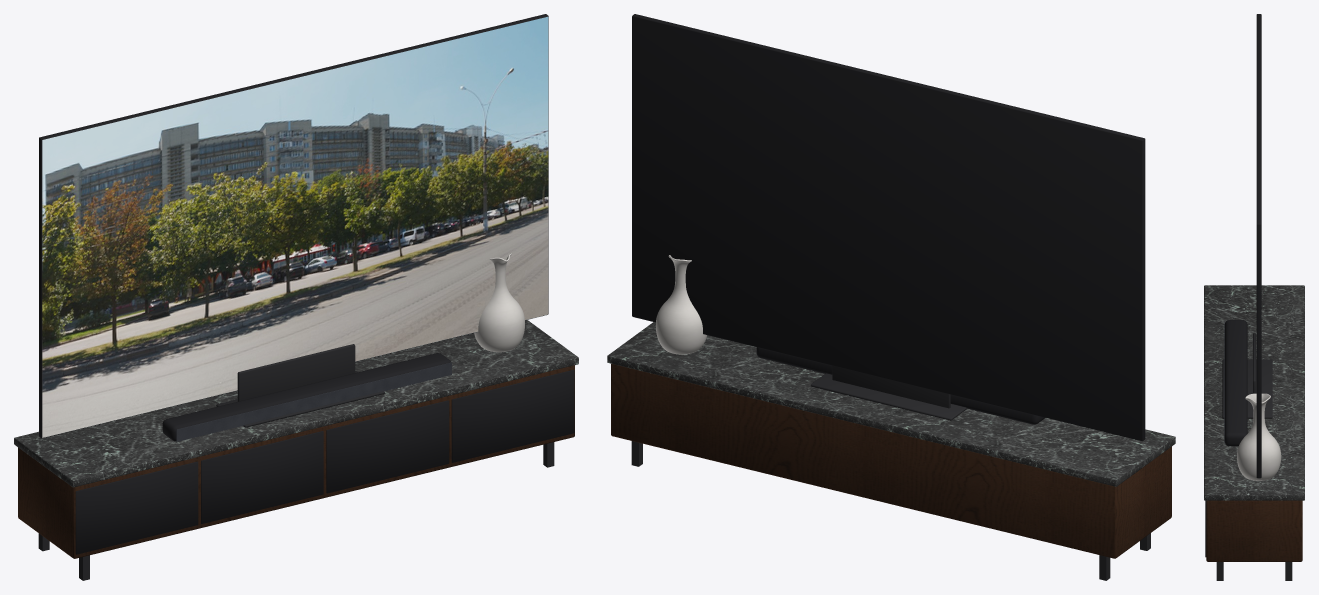
3 views of the same model, side by side, from view 1: azimuth 30°, elevation 25°; view 2: azimuth 150°, elevation 25°; view 3: azimuth 270°, elevation 25° (orthographic). The views are drawn at different scales.
Parts seen in each view (by area): view 1: screen, cabtop, cab, door, door.002, door.003, door.001, soundbar, panel, neck, sbgrill, ceramic_vase_01; view 2: panel, cab, cabtop, ceramic_vase_01, ped, neck, soundbar; view 3: cabtop, cab, soundbar, panel, ceramic_vase_01, ped, neck.
Part boxes in pixels (box(x1,y1,x2,y2)): screen: box(42, 16, 548, 437); cabtop: box(14, 320, 578, 487); cab: box(18, 365, 574, 558); door: box(75, 461, 198, 554); door.002: box(326, 400, 449, 493); door.003: box(451, 369, 574, 462); door.001: box(201, 431, 323, 523); soundbar: box(162, 353, 451, 441); panel: box(39, 14, 548, 438); neck: box(237, 344, 355, 401); sbgrill: box(176, 362, 451, 441); ceramic_vase_01: box(474, 253, 524, 352); panel: box(632, 14, 1145, 441); cab: box(611, 364, 1171, 558); cabtop: box(607, 322, 1175, 486); ceramic_vase_01: box(655, 255, 706, 354); ped: box(810, 373, 967, 420); neck: box(832, 365, 950, 408); soundbar: box(756, 347, 1045, 424); cabtop: box(1204, 285, 1304, 500); cab: box(1206, 500, 1302, 561); soundbar: box(1224, 320, 1247, 446); panel: box(1256, 14, 1261, 478); ceramic_vase_01: box(1237, 393, 1281, 480); ped: box(1222, 359, 1272, 418); neck: box(1253, 333, 1255, 411).
Bounding box in the file's own units: 1.93 × 1.55 × 0.3893.
7 materials, 5 textured.
